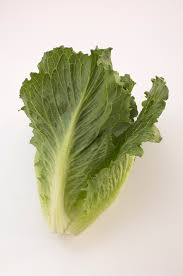Lettuce: (15, 40, 160, 259)
